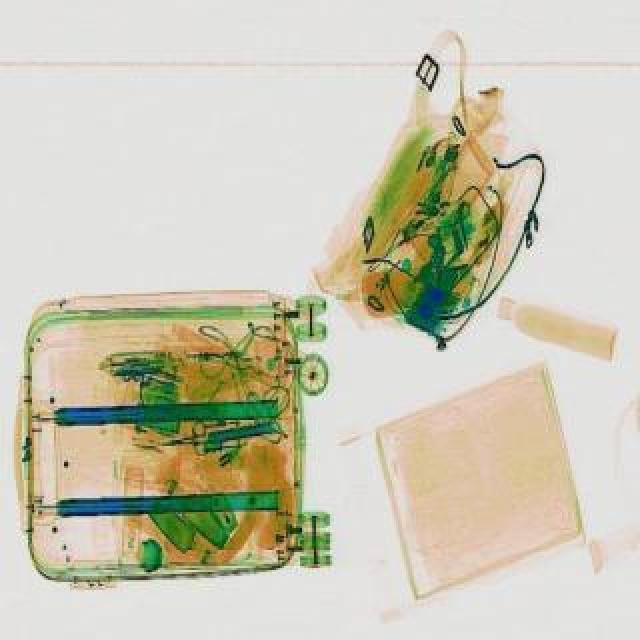pliers: (156, 418, 212, 462)
